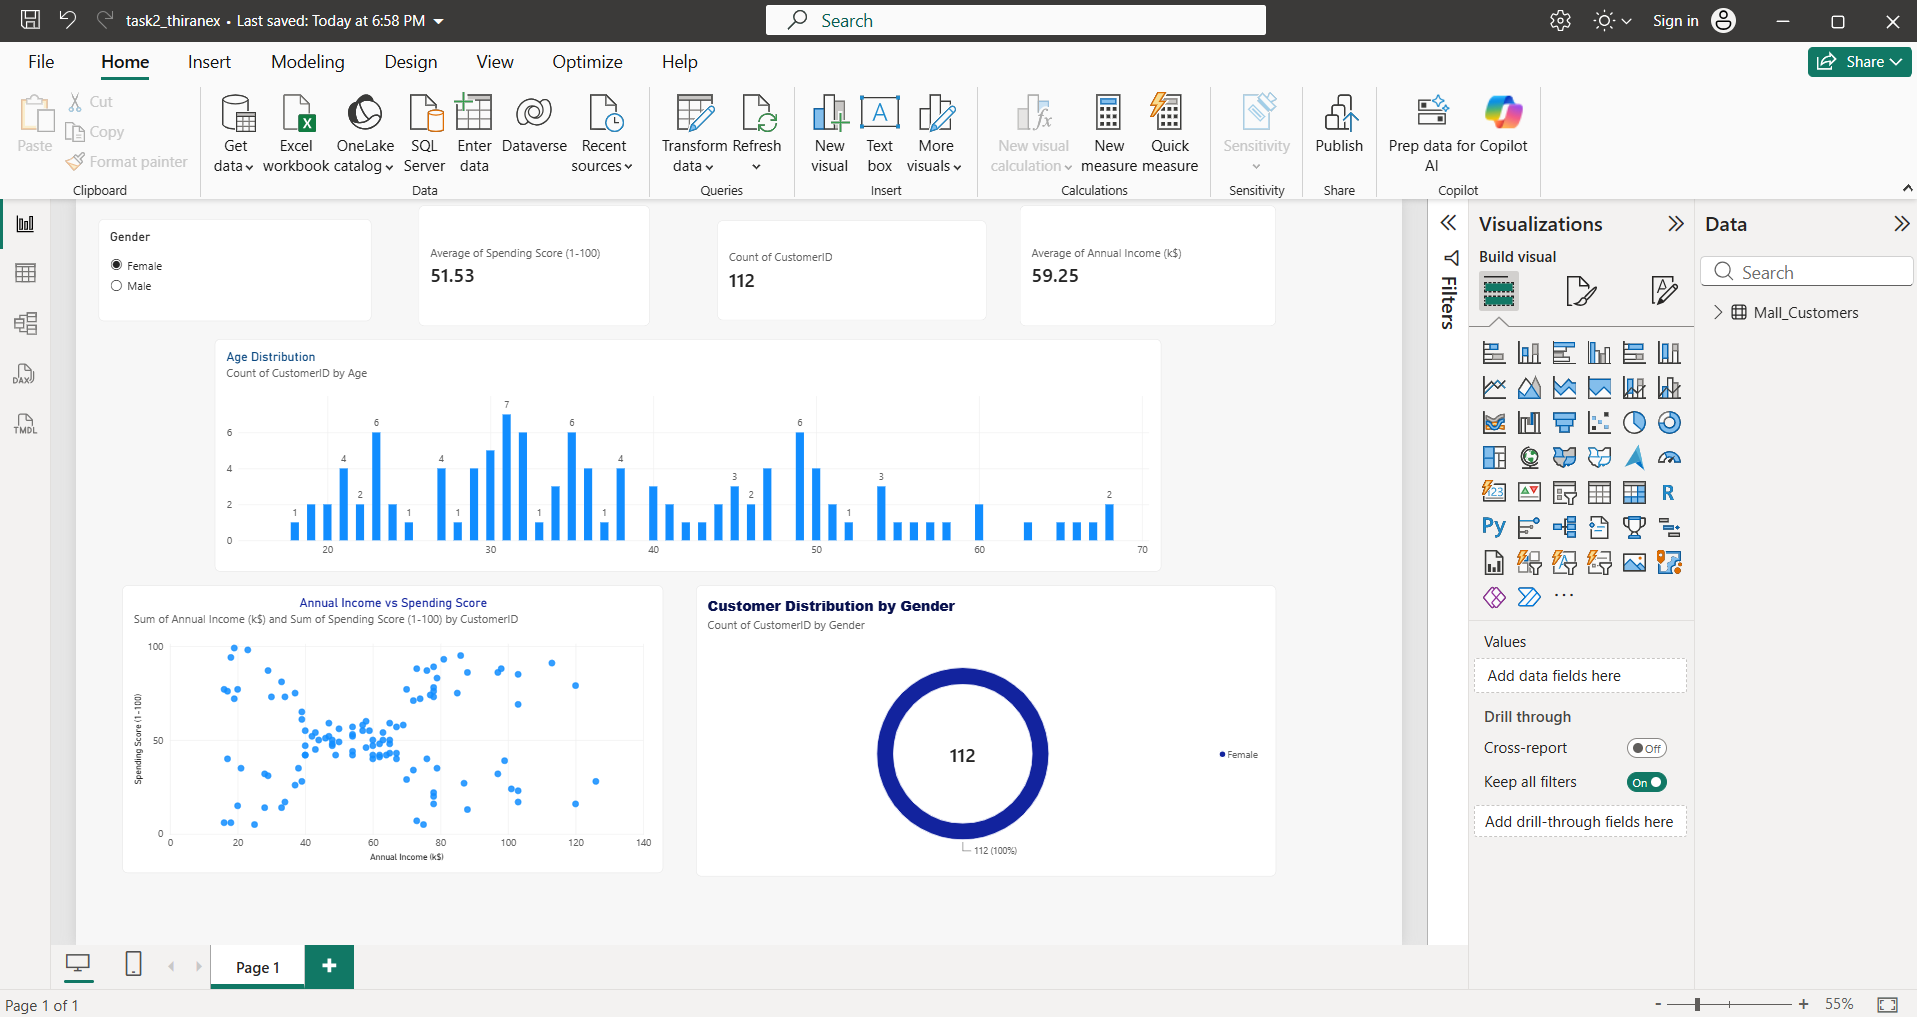

Layout of this report page (visuals, bound fields, positions):
{"tool":"powerbi","page":{"name":"Page 1","canvas":[1920,1080],"ordinal":0},"visuals":[{"type":"donutChart","title":"Customer Distribution by Gender","fields":{"Category":["Mall_Customers.Gender"],"Y":["CountNonNull(Mall_Customers.CustomerID)"]},"box":[898.3,558.3,840,421.7],"z":0},{"type":"scatterChart","title":"Annual Income vs Spending Score","fields":{"Category":["Mall_Customers.CustomerID"],"X":["Sum(Mall_Customers.Annual Income (k$))"],"Y":["Sum(Mall_Customers.Spending Score (1-100))"]},"box":[66.7,558.3,783.3,416.7],"z":1000},{"type":"clusteredColumnChart","title":"Age Distribution","fields":{"Category":["Mall_Customers.Age"],"Y":["CountNonNull(Mall_Customers.CustomerID)"]},"box":[201.7,203.3,1370,336.7],"z":2000},{"type":"listSlicer","fields":{"Values":["Mall_Customers.Gender"]},"box":[33.3,28.3,395,148.3],"z":3000},{"type":"cardVisual","title":"Total Customers","fields":{"Data":["CountNonNull(Mall_Customers.CustomerID)"]},"box":[928.3,31.7,390,145],"z":4000},{"type":"cardVisual","fields":{"Data":["Avg(Mall_Customers.Annual Income (k$))"]},"box":[1366.7,8.3,371.7,175],"z":5000},{"type":"cardVisual","title":"Average Spending Score","fields":{"Data":["Avg(Mall_Customers.Spending Score (1-100))"]},"box":[495,8.3,335,175],"z":5001}]}

Visuals, with their boxes on the page's 1920x1080 design canvas (x1, y1, x2, y2). These are canvas units, not pixel positions in the 1917x1017 screenshot, which may show the page scaled, cropped or inside an application window:
"Customer Distribution by Gender" donutChart: [898, 558, 1738, 980]
"Annual Income vs Spending Score" scatterChart: [67, 558, 850, 975]
"Age Distribution" clusteredColumnChart: [202, 203, 1572, 540]
listSlicer - Mall_Customers.Gender: [33, 28, 428, 177]
"Total Customers" cardVisual: [928, 32, 1318, 177]
cardVisual - Avg(Mall_Customers.Annual Income (k$)): [1367, 8, 1738, 183]
"Average Spending Score" cardVisual: [495, 8, 830, 183]
